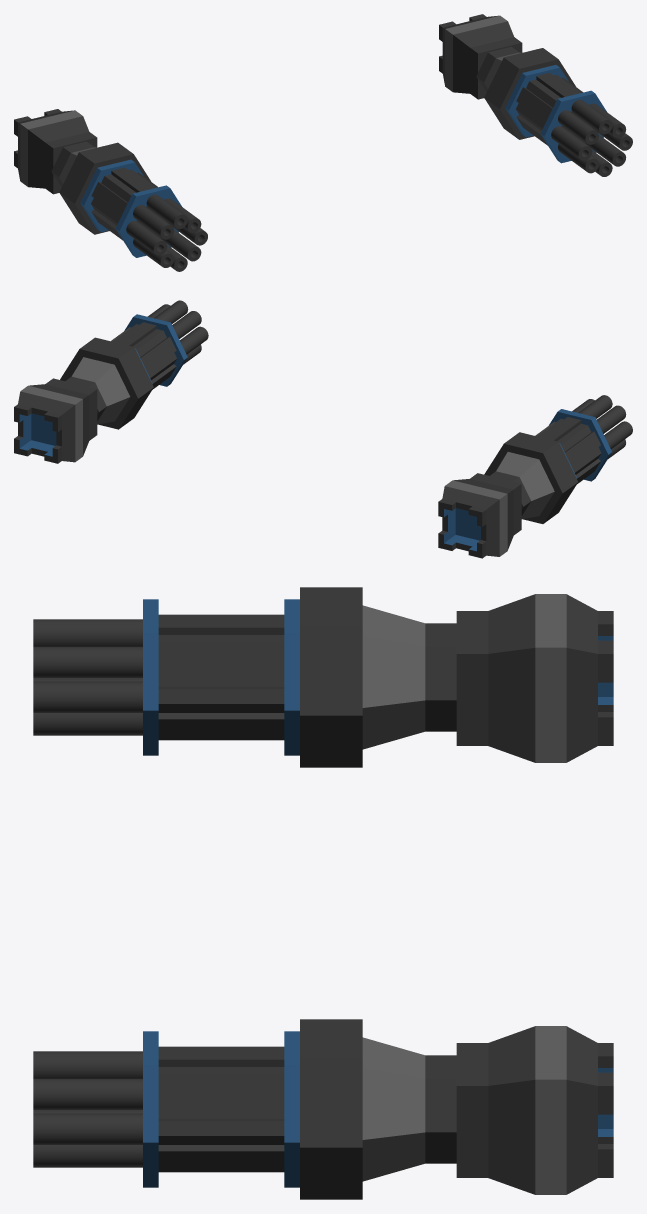
Rendered from Ship Miniguns.fbx.
3 views of the same model, one above another, from view 1: azimuth 30°, elevation 25°; view 2: azimuth 150°, elevation 25°; view 3: azimuth 270°, elevation 25° (orthographic). The views are drawn at different scales.
Parts seen in each view (by area): view 1: clipBarrel_large (×2), engine_turbineSquare (×2), attachment_barrelThin (×12), engine_turbine (×2); view 2: engine_turbineSquare (×2), engine_turbine (×2), clipBarrel_large (×2), attachment_barrelThin (×6); view 3: engine_turbineSquare (×2), engine_turbine (×2), clipBarrel_large (×2), attachment_barrelThin (×8).
Part boxes in pixels (x1,y1,x2,y2): clipBarrel_large (×2): (80, 65, 606, 257); engine_turbineSquare (×2): (14, 14, 522, 194); attachment_barrelThin (×12): (126, 99, 626, 267); engine_turbine (×2): (51, 46, 575, 234); engine_turbineSquare (×2): (14, 378, 521, 558); engine_turbine (×2): (60, 337, 577, 523); clipBarrel_large (×2): (111, 314, 611, 483); attachment_barrelThin (×6): (154, 300, 632, 449); engine_turbineSquare (×2): (456, 594, 613, 1194); engine_turbine (×2): (300, 587, 456, 1199); clipBarrel_large (×2): (143, 599, 299, 1187); attachment_barrelThin (×8): (33, 619, 142, 1166).
Bounding box in the file's own units: 59.24 × 9 × 29.6.
